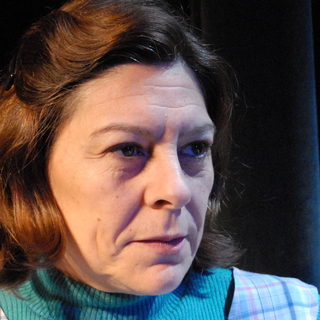eye: (99, 135, 149, 167), (176, 133, 215, 164)
